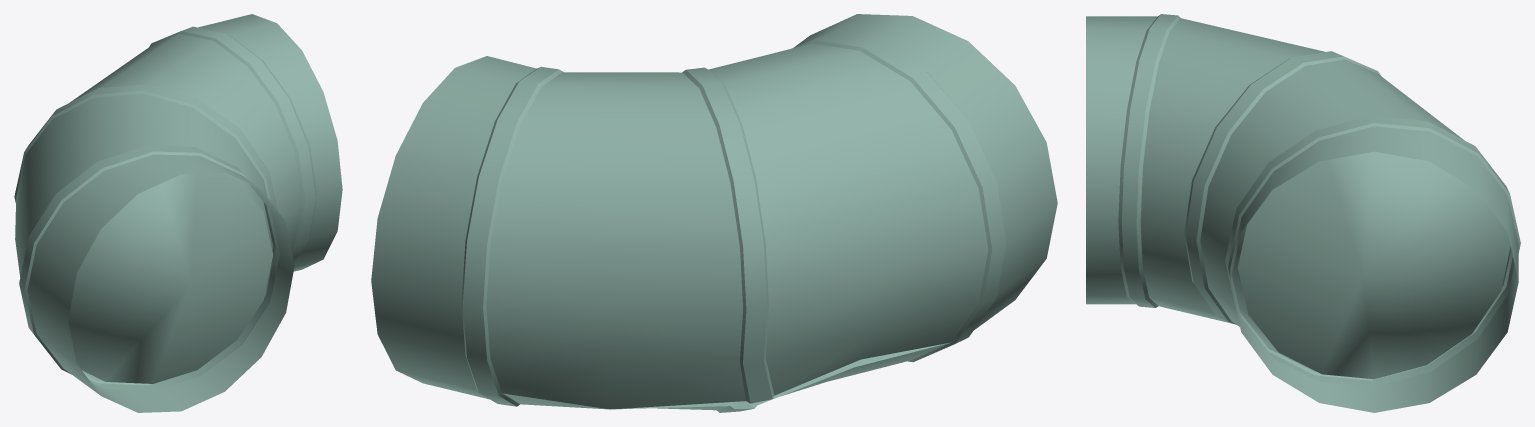
The model's file is PipeLarge_BrokenStepped_Bent_01.fbx.
The picture shows the model from 3 angles, left to right: view 1: azimuth 30°, elevation 25°; view 2: azimuth 150°, elevation 25°; view 3: azimuth 270°, elevation 25°; orthographic projection. The views are drawn at different scales.
Visible parts, largest first — view 1: PipeLarge_BrokenStepped_Bent_01.001; view 2: PipeLarge_BrokenStepped_Bent_01.001; view 3: PipeLarge_BrokenStepped_Bent_01.001.
Boxes of the visible parts, left/top/right/bottom form: PipeLarge_BrokenStepped_Bent_01.001: left=14, top=14, right=342, bottom=412; PipeLarge_BrokenStepped_Bent_01.001: left=371, top=14, right=1057, bottom=412; PipeLarge_BrokenStepped_Bent_01.001: left=1086, top=14, right=1520, bottom=412.
Bounding box in the file's own units: 0.3016 × 0.2032 × 0.3016.
